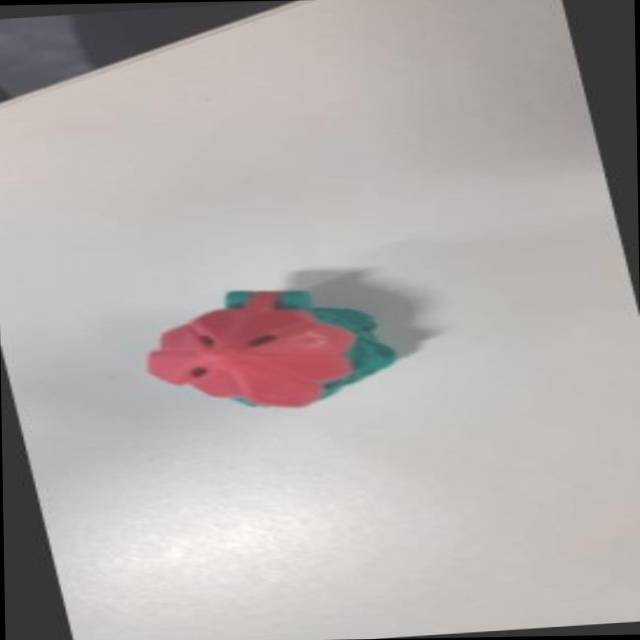House: (127, 278, 427, 418)
